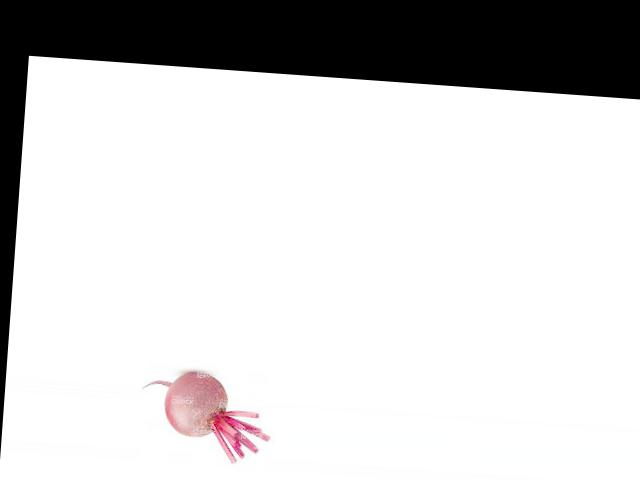beet: (138, 369, 275, 465)
